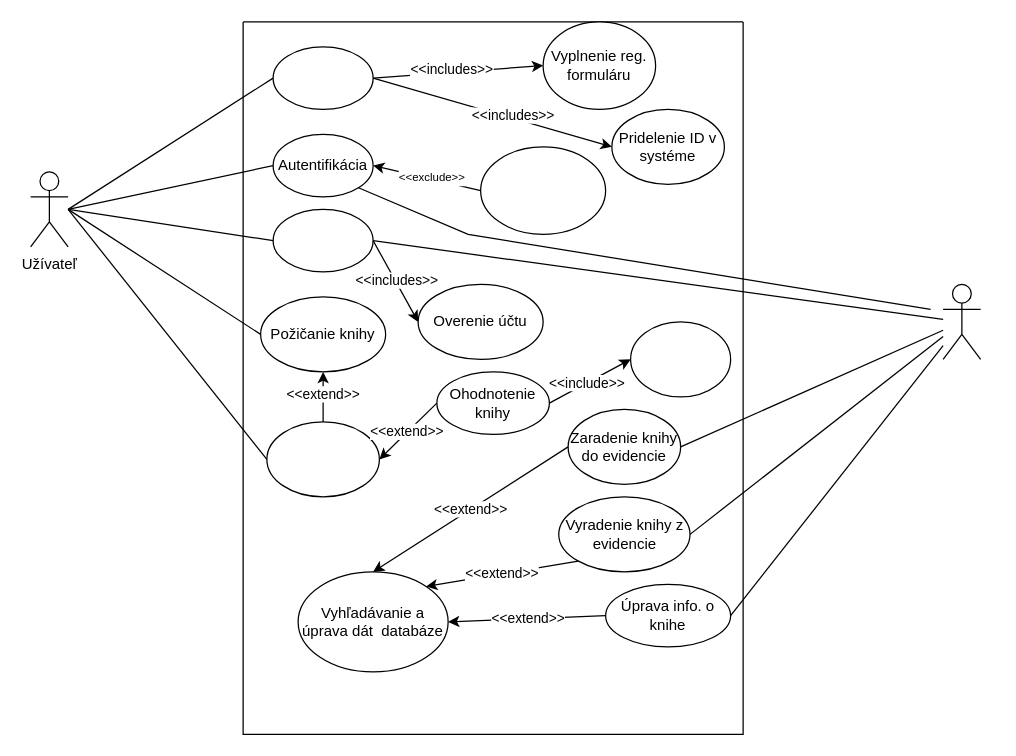
The diagram is 1016 pixels wide and 756 high, and some of its shapes have lost their labels. The centre of each missing label's shape, as x and y in pixels:
Knihovník: (961,321)
Nesprávne meno alebo heslo: (542,190)
Prihlásenie: (322,240)
Registrácia: (322,77)
Vrátenie knihy: (322,459)
Vyplnenie hodnotenia: (680,359)
